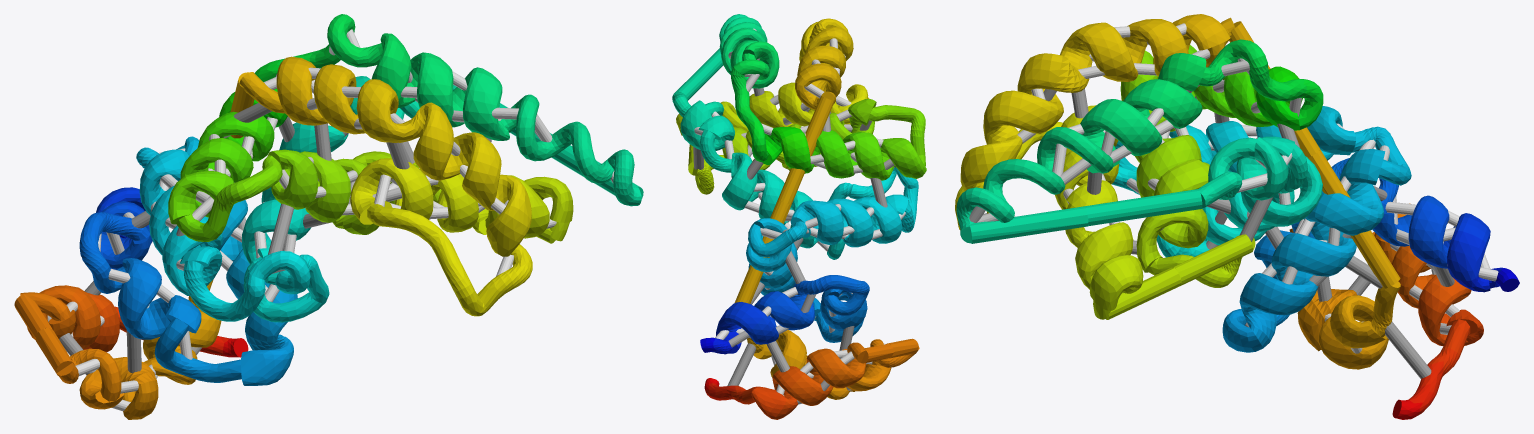
File: protein.glb
The picture shows the model from 3 angles, left to right: view 1: azimuth 30°, elevation 25°; view 2: azimuth 150°, elevation 25°; view 3: azimuth 270°, elevation 25°; orthographic projection. The views are drawn at different scales.
Parts seen in each view (by area): view 1: group_ME_ShapeCylinder_172; view 2: group_ME_ShapeCylinder_172; view 3: group_ME_ShapeCylinder_172.
Boxes of the visible parts, x1=… form: group_ME_ShapeCylinder_172: x1=14, y1=14, x2=643, y2=419; group_ME_ShapeCylinder_172: x1=672, y1=14, x2=926, y2=419; group_ME_ShapeCylinder_172: x1=955, y1=14, x2=1519, y2=419.
Size of the model in its own units: 52.42 by 46.3 by 60.65.
